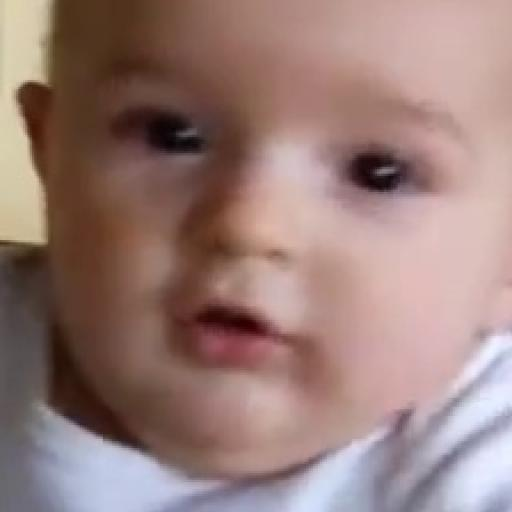Autism: (18, 7, 512, 502)
